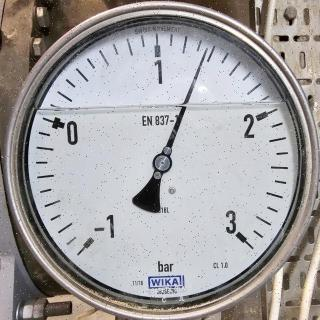gauge: (0, 0, 320, 320), (69, 211, 119, 266), (222, 218, 252, 248), (152, 152, 172, 174), (200, 45, 210, 59)
